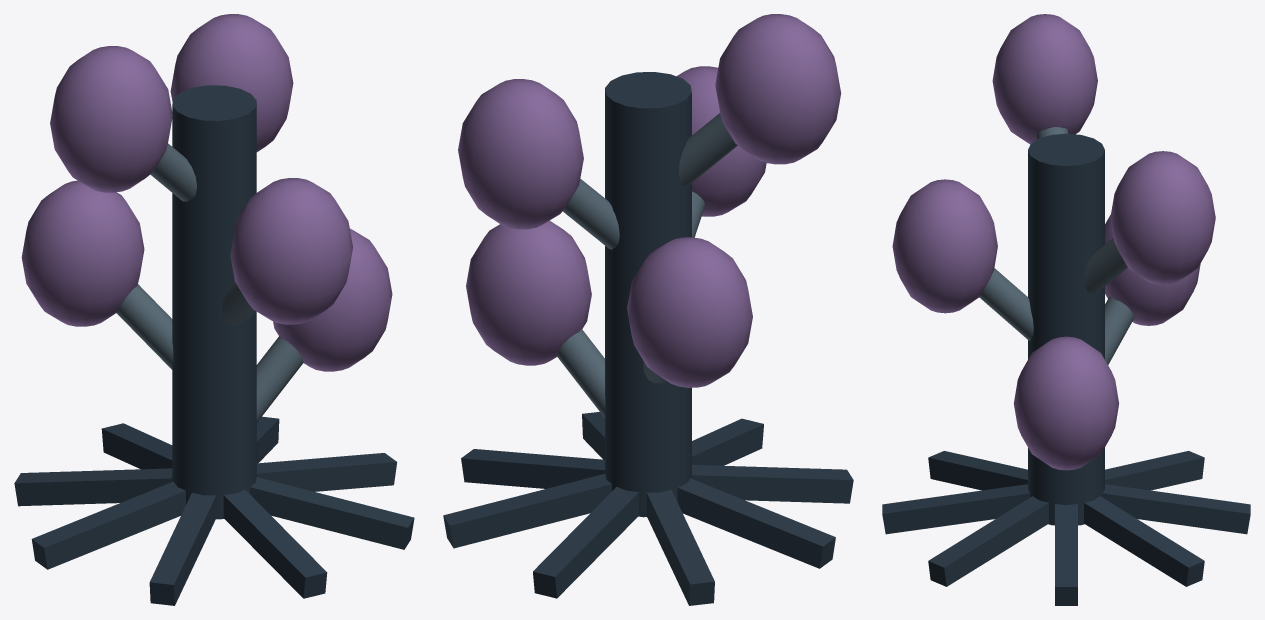
File: CMU3DHiveHiveRecoveryNodeXeno.glb
3 renders of one model, left to right at view 1: azimuth 30°, elevation 25°; view 2: azimuth 150°, elevation 25°; view 3: azimuth 270°, elevation 25°, orthographic. The views are drawn at different scales.
Visible parts, largest first — view 1: nutrient sac (×5), anchoring root (×8), central branching trunk, raised organ branch (×4); view 2: nutrient sac (×5), anchoring root (×8), central branching trunk, raised organ branch (×3); view 3: nutrient sac (×5), anchoring root (×7), central branching trunk, raised organ branch (×3).
Boxes of the visible parts, x1,y1,x2,y2 form: nutrient sac (×5): (21, 14, 392, 371); anchoring root (×8): (14, 416, 414, 605); central branching trunk: (172, 85, 256, 519); raised organ branch (×4): (116, 143, 303, 422); nutrient sac (×5): (458, 14, 841, 387); anchoring root (×8): (443, 412, 853, 605); central branching trunk: (605, 72, 691, 517); raised organ branch (×3): (557, 113, 737, 417); nutrient sac (×5): (892, 14, 1215, 470); anchoring root (×7): (882, 451, 1250, 605); central branching trunk: (1028, 133, 1104, 525); raised organ branch (×3): (979, 238, 1133, 364).
Size of the model in its own units: 0.9085 by 1.25 by 0.9085.
